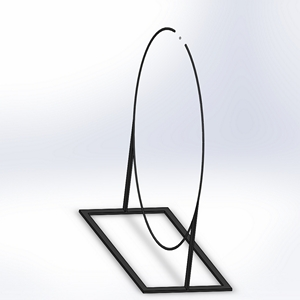circle: (77, 24, 232, 293)
